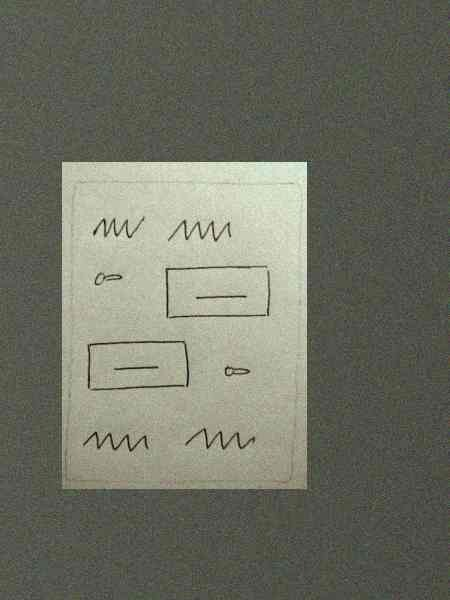button: (161, 261, 276, 324), (83, 338, 193, 394)
switch: (89, 266, 131, 291), (217, 360, 254, 382)
text: (180, 423, 262, 456), (164, 213, 235, 248), (80, 425, 152, 458), (89, 213, 149, 243)
